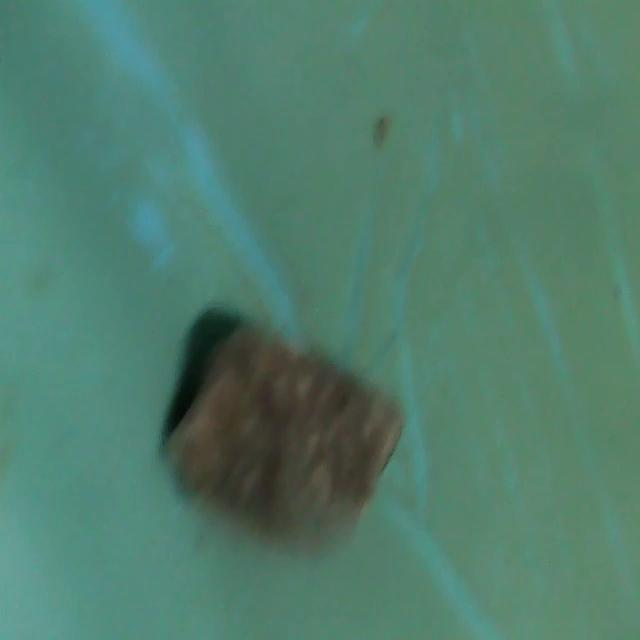rock: (159, 317, 418, 578)
